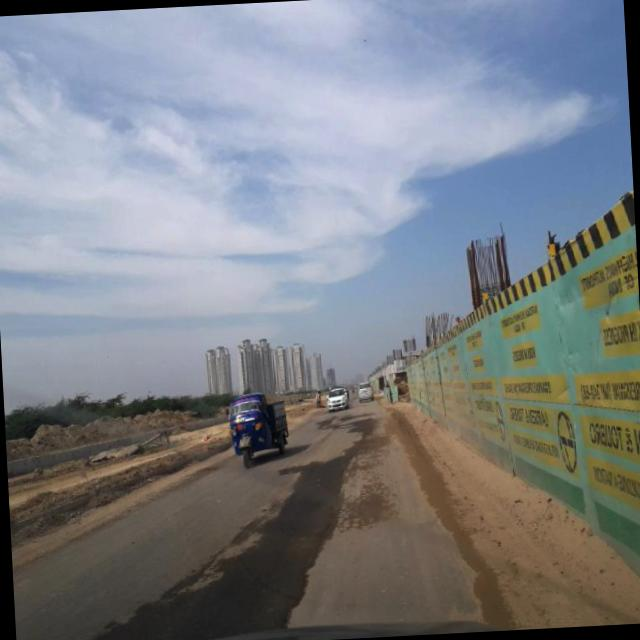crack: (323, 451, 406, 542)
pothole: (271, 450, 366, 631), (146, 510, 274, 606)
